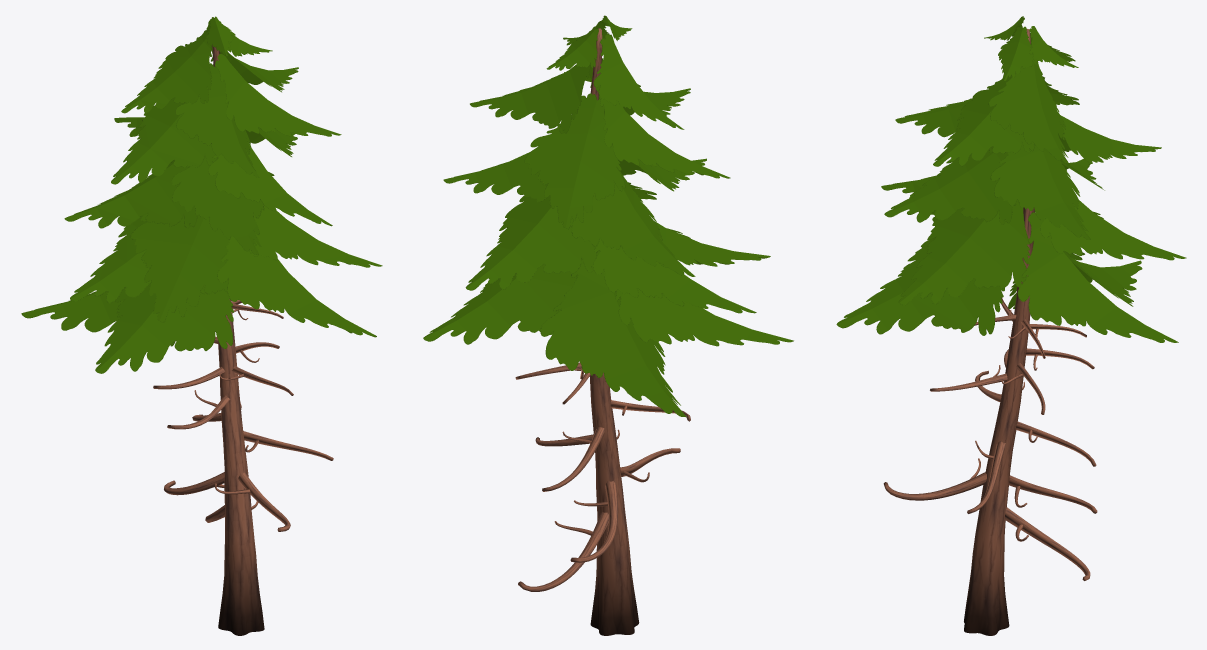
The model's file is Pine_3.glb.
The picture shows the model from 3 angles, left to right: view 1: azimuth 30°, elevation 25°; view 2: azimuth 150°, elevation 25°; view 3: azimuth 270°, elevation 25°; orthographic projection. The views are drawn at different scales.
Bounding box in the file's own units: 3.61 × 7.39 × 4.
Materials: 2 (2 with a texture image).
